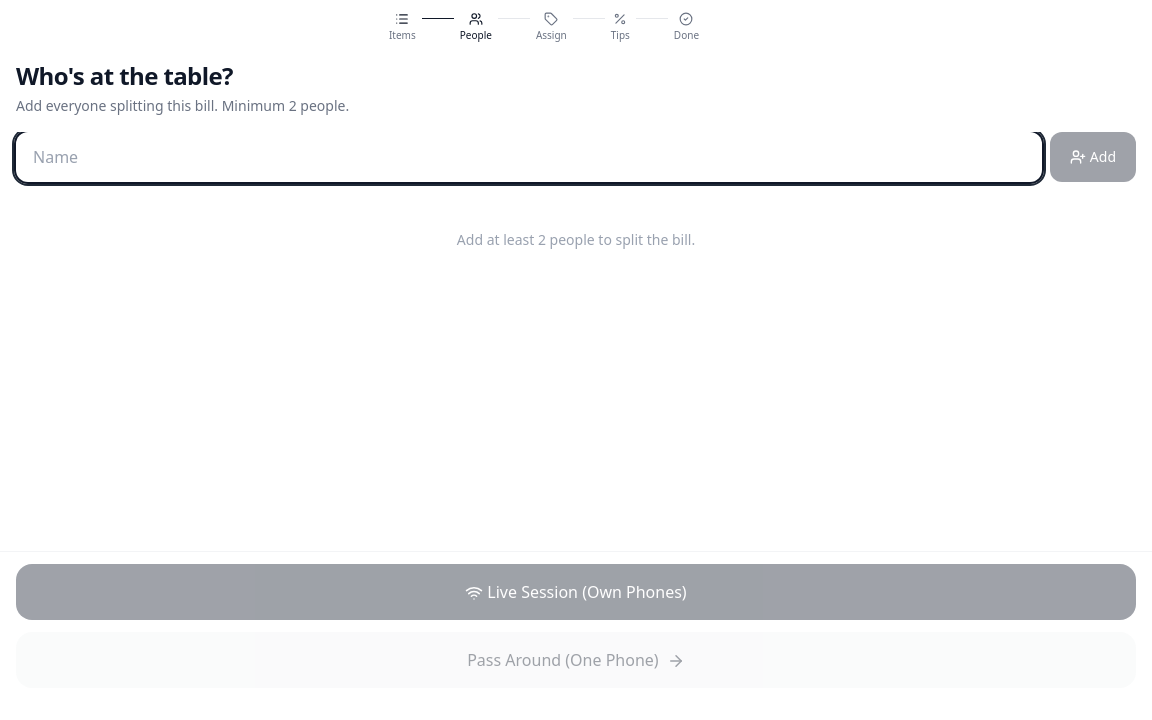
PeopleSetupPage › removes a person when remove button is clicked
Type "Alice" into the field named "person's name" at (529, 157), box [16, 132, 1042, 182]
Then press Enter
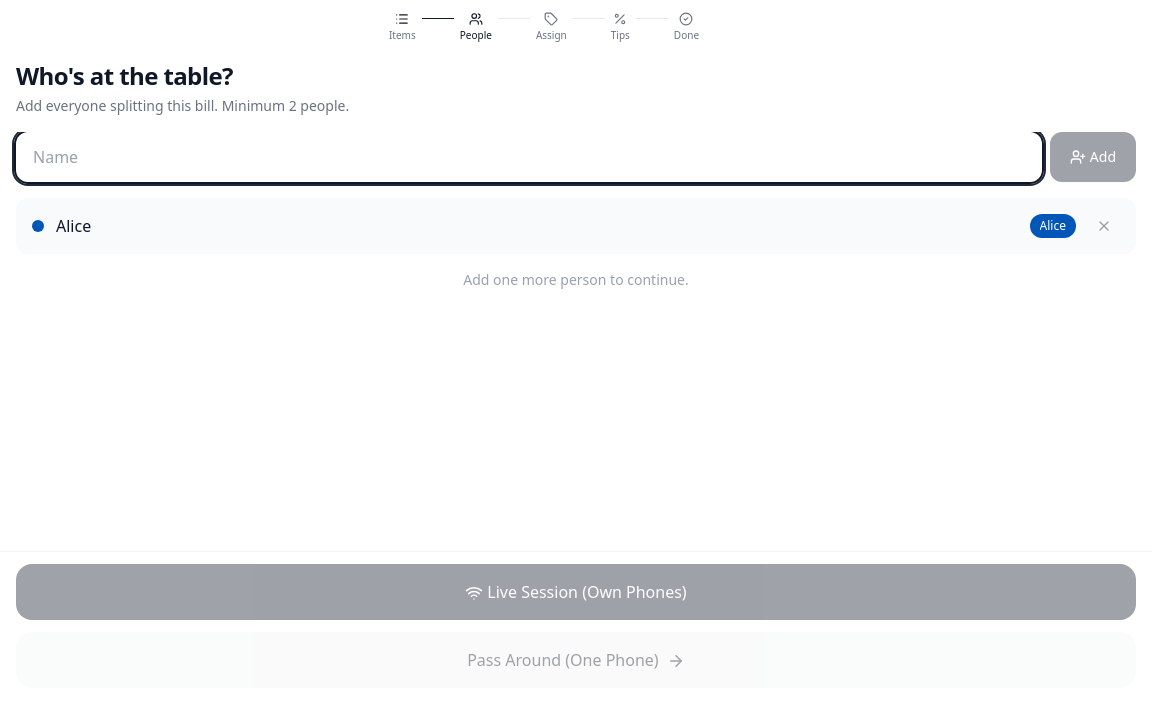
Click the button named "remove alice" at (1104, 226), box [1088, 210, 1120, 242]
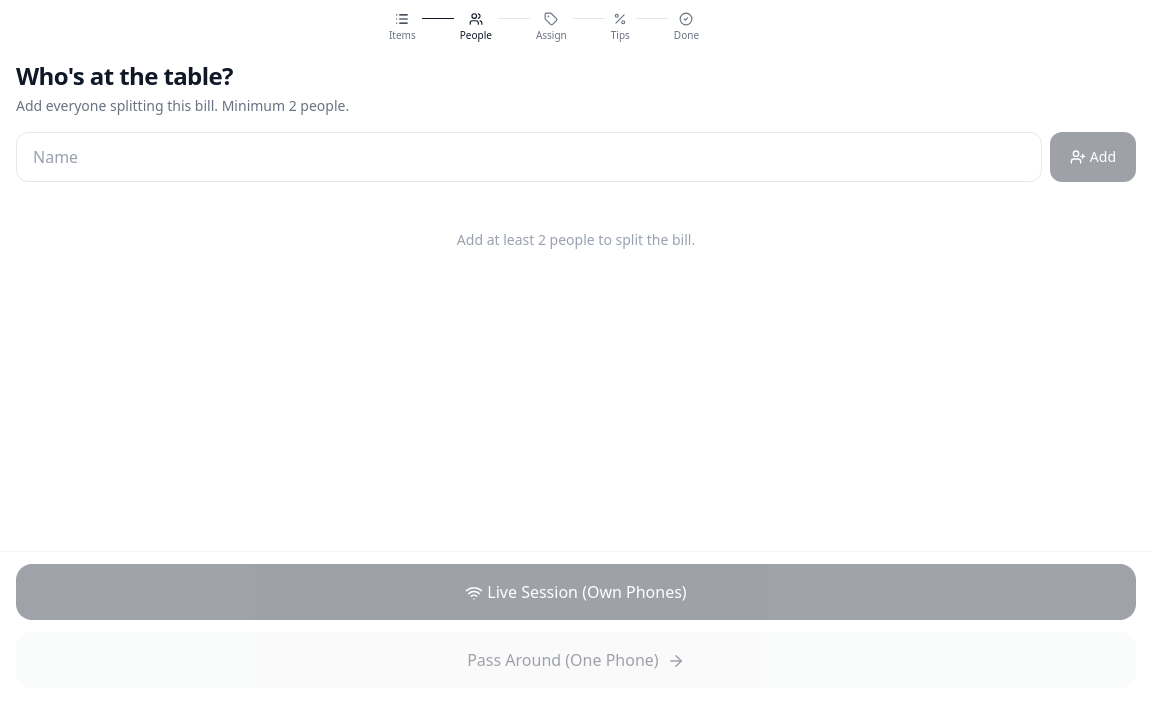
Now the button "Alice" is gone
